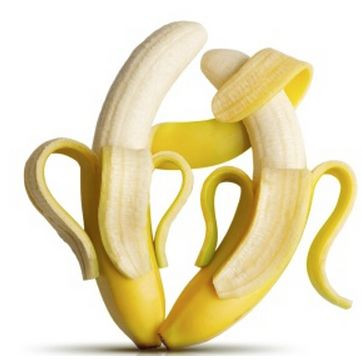banana: (81, 16, 220, 348), (162, 50, 310, 354)
